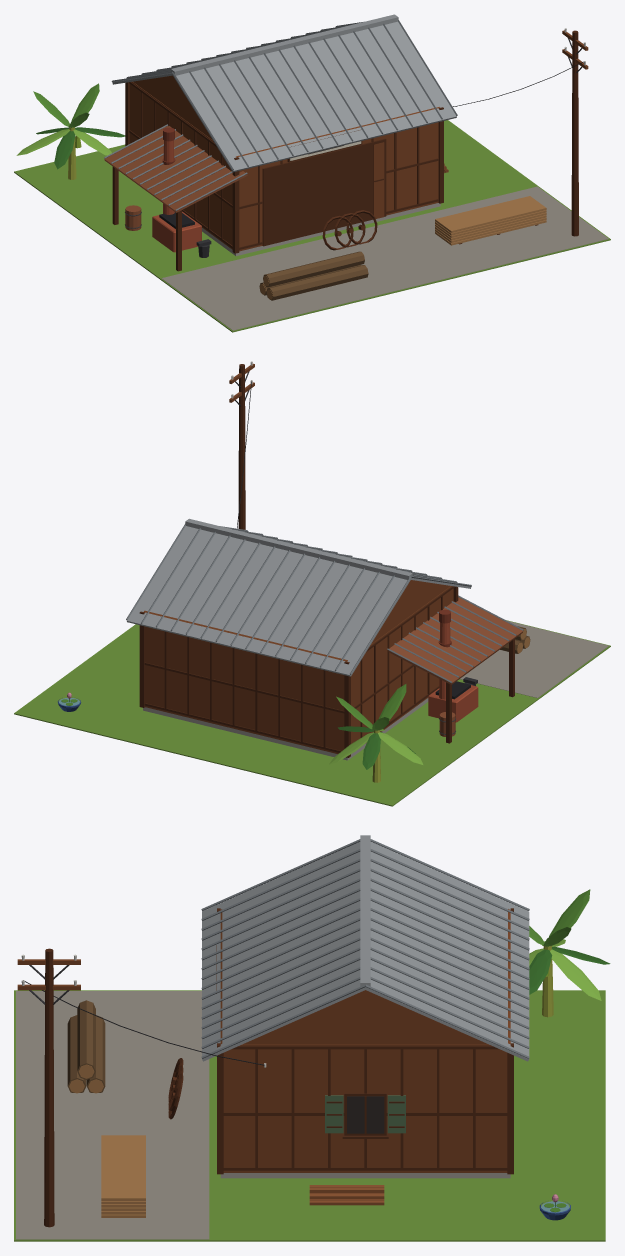
Rendered from factory_1.glb.
The picture shows the model from 3 angles, top to bottom: view 1: azimuth 30°, elevation 25°; view 2: azimuth 150°, elevation 25°; view 3: azimuth 270°, elevation 25°; orthographic projection. The views are drawn at different scales.
Parts seen in each view (by area): view 1: body; view 2: body; view 3: body, windows.
Part boxes in pixels (box(x1,y1,x2,y2)): body: box(14, 14, 610, 332); body: box(14, 361, 610, 806); body: box(14, 835, 610, 1241); windows: box(347, 1096, 384, 1133).
Size of the model in its own units: 16.5 by 8.21 by 16.05.
